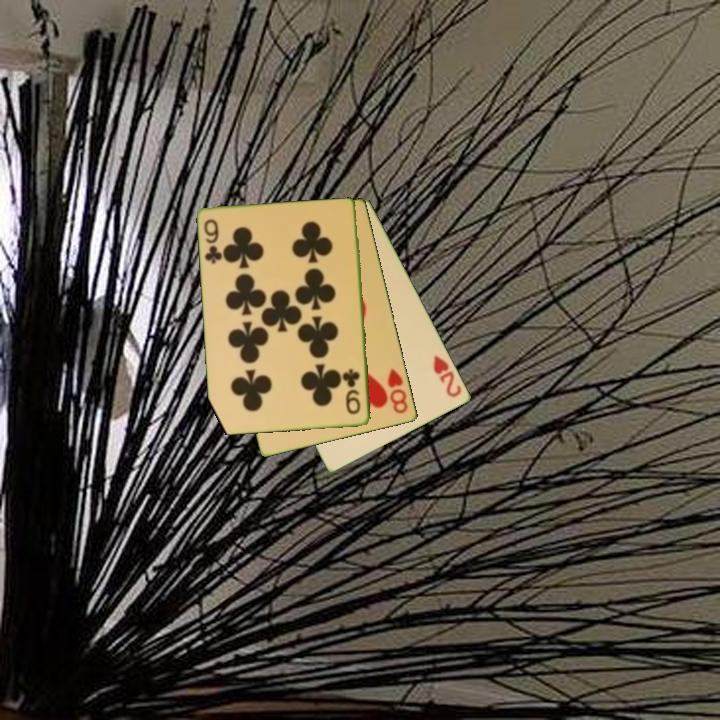2h: (430, 352, 465, 400)
8h: (384, 365, 411, 417)
9c: (201, 216, 225, 267), (342, 366, 364, 417)
